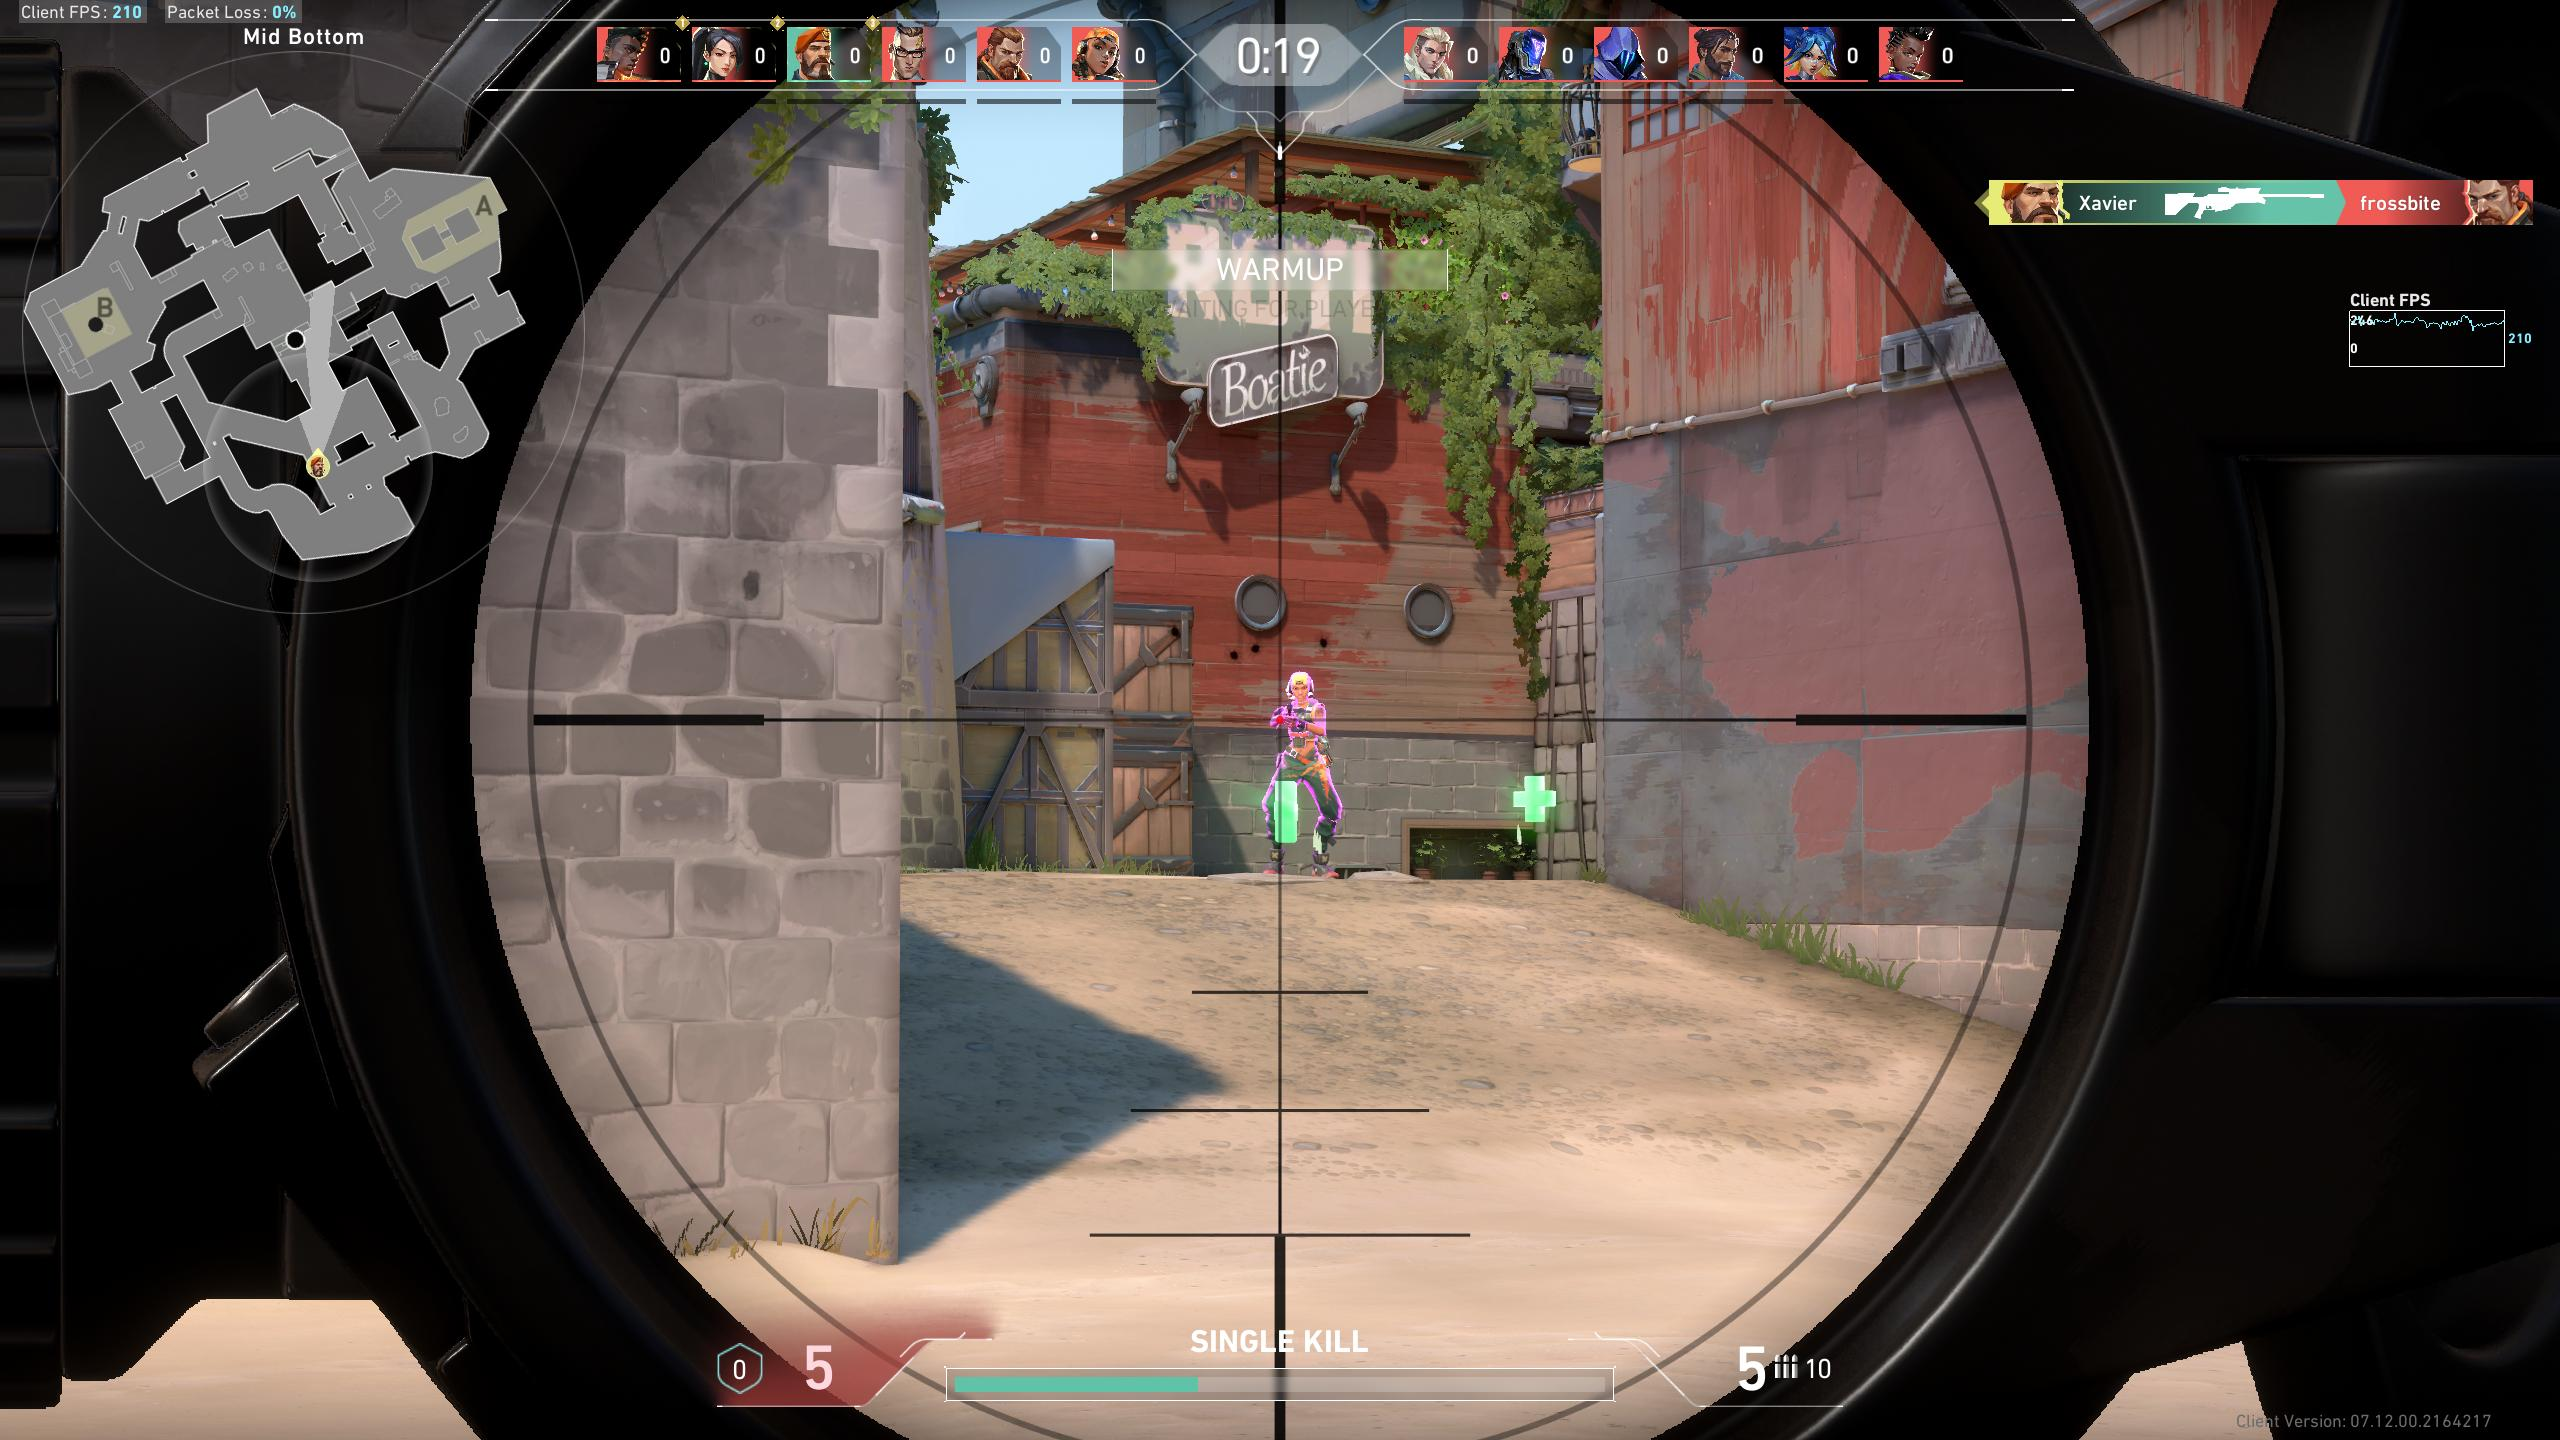enemyBody: (1276, 707, 1338, 770)
enemyHead: (1289, 665, 1317, 705)
